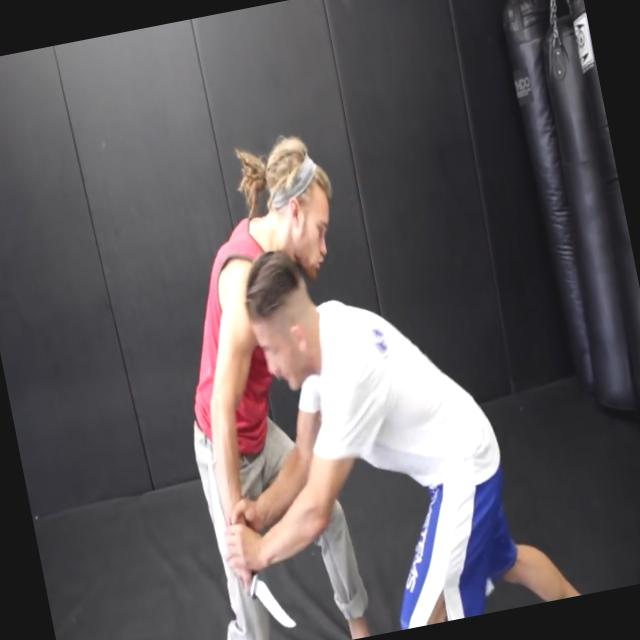knife: (230, 558, 305, 639)
